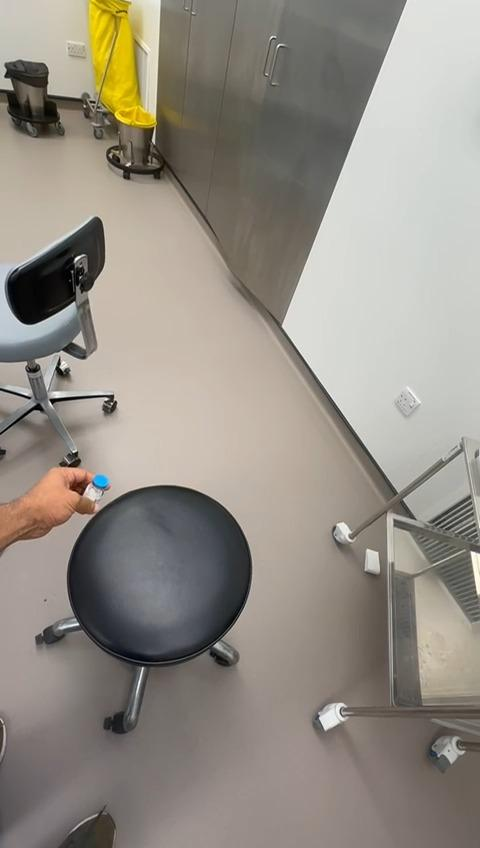cefazolin: (83, 474, 111, 501)
